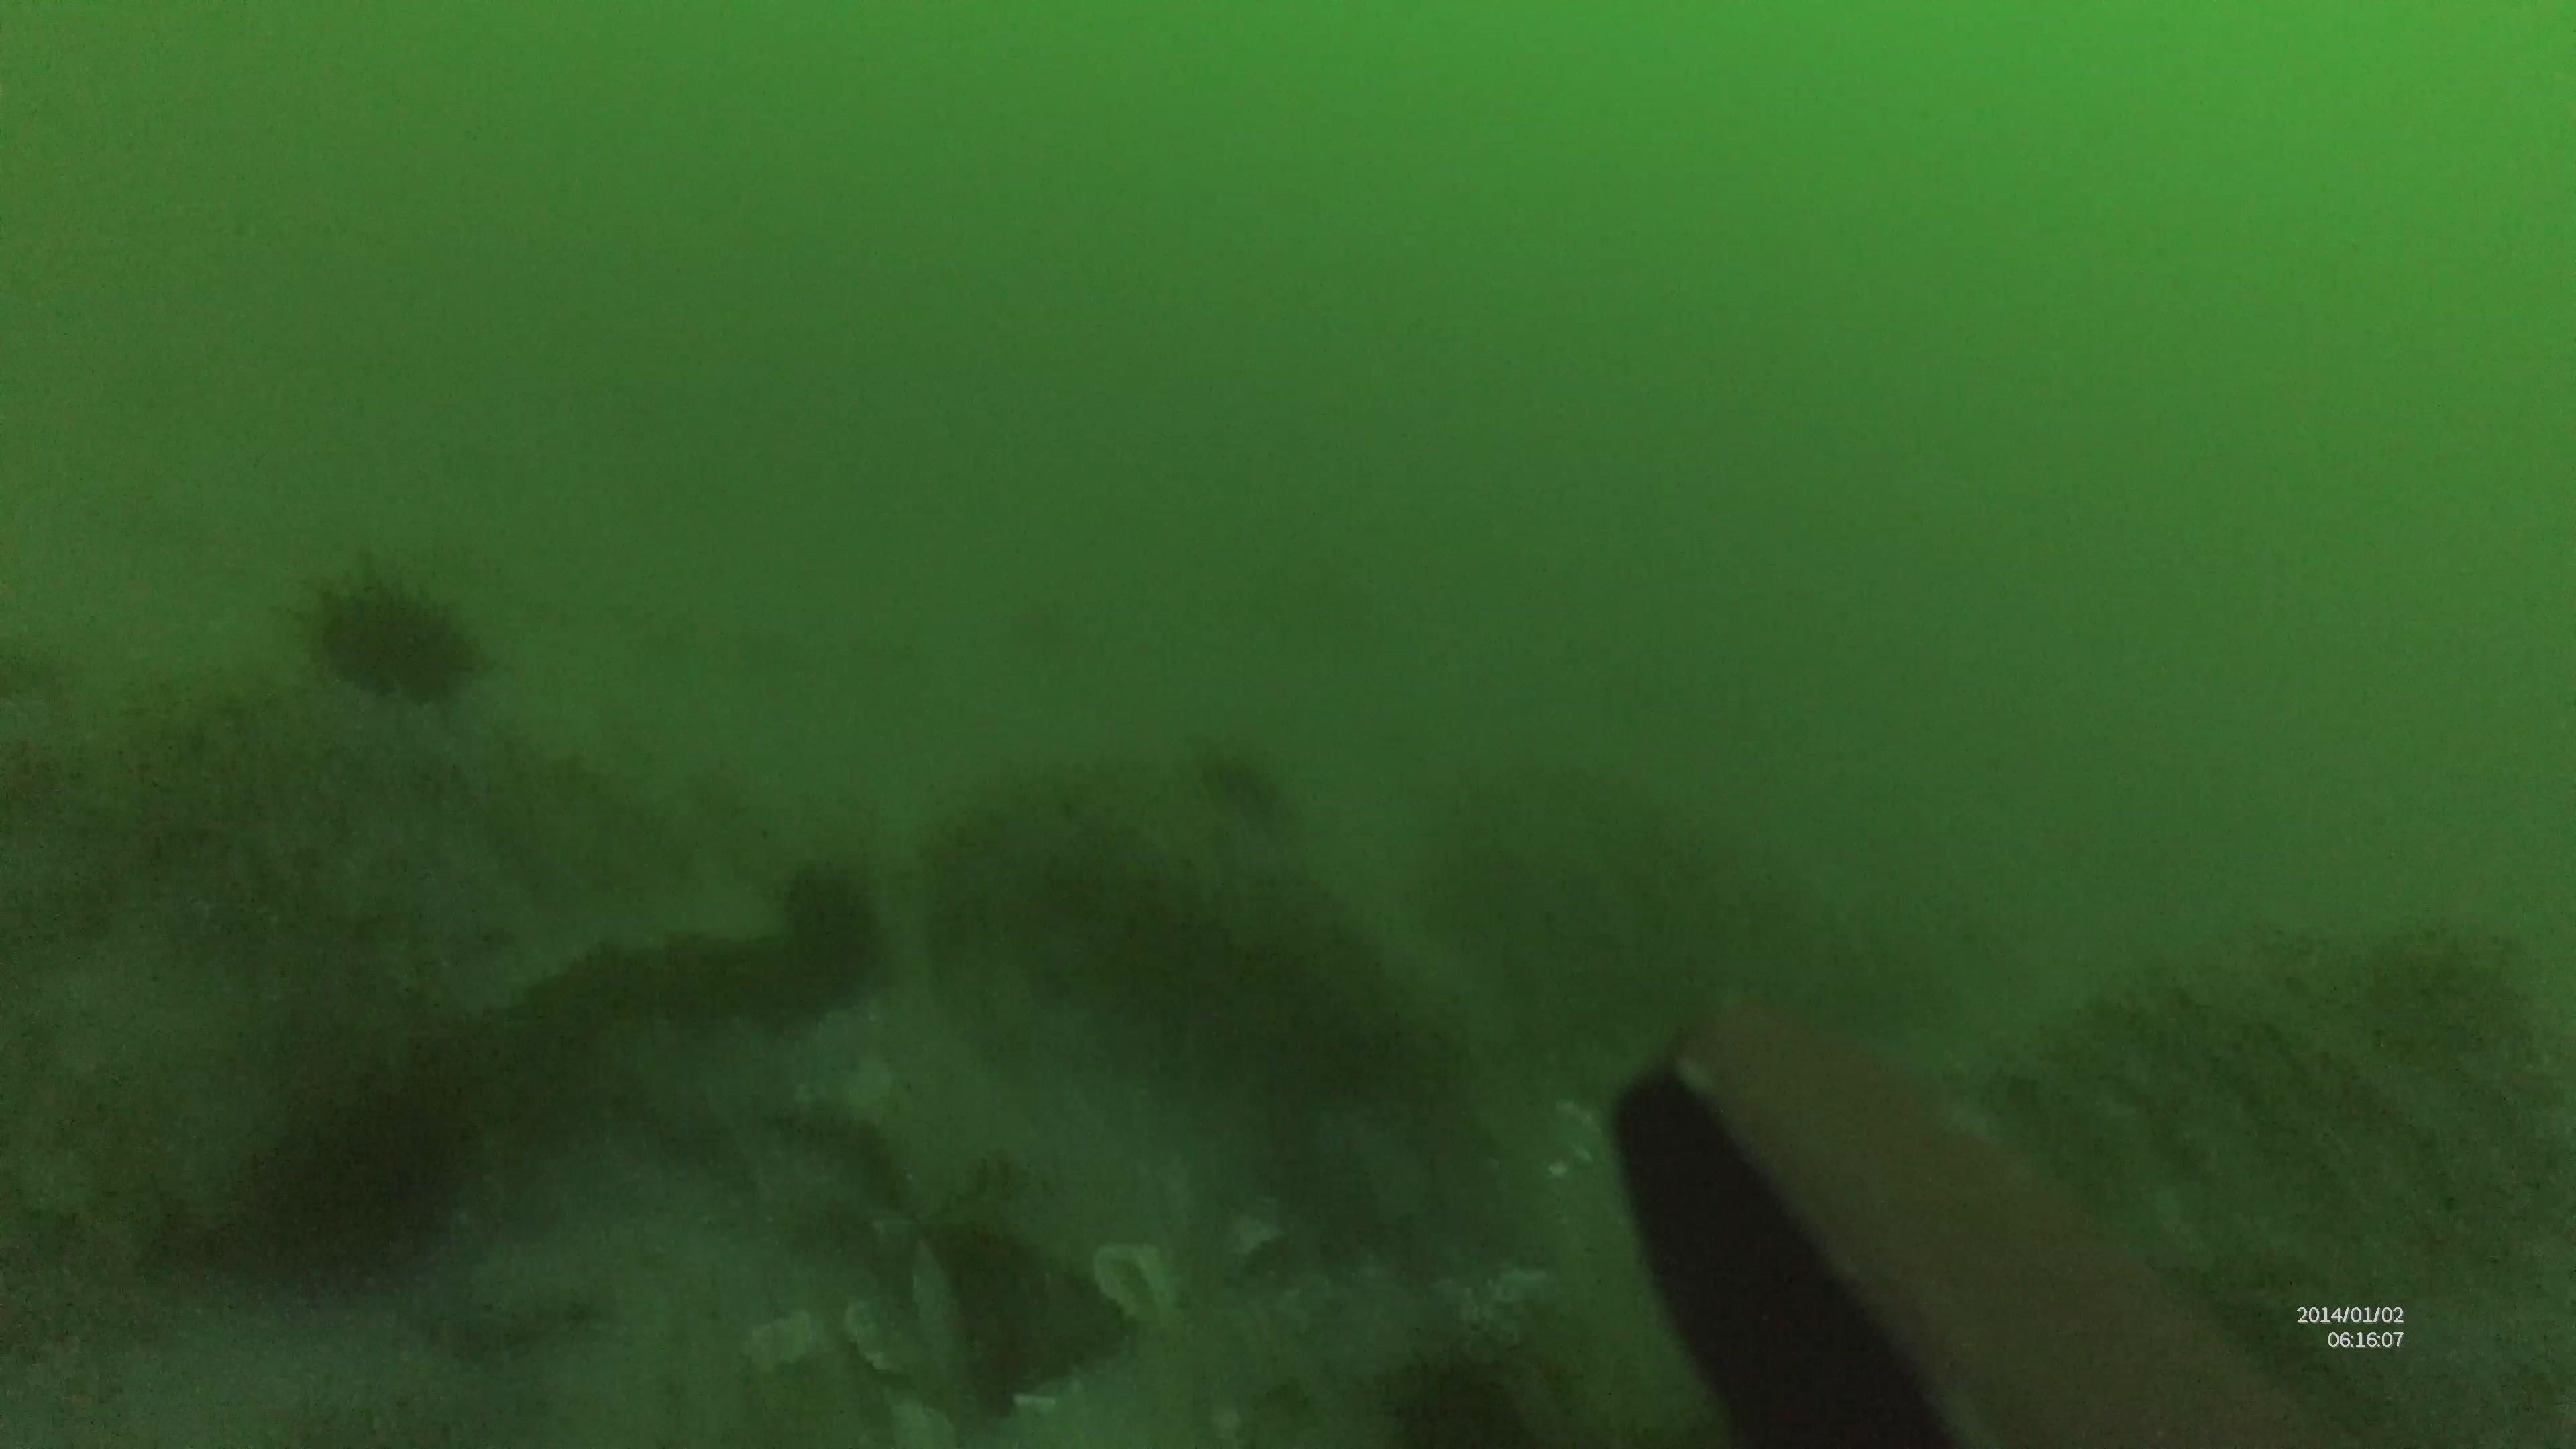echinus: (297, 557, 487, 702)
